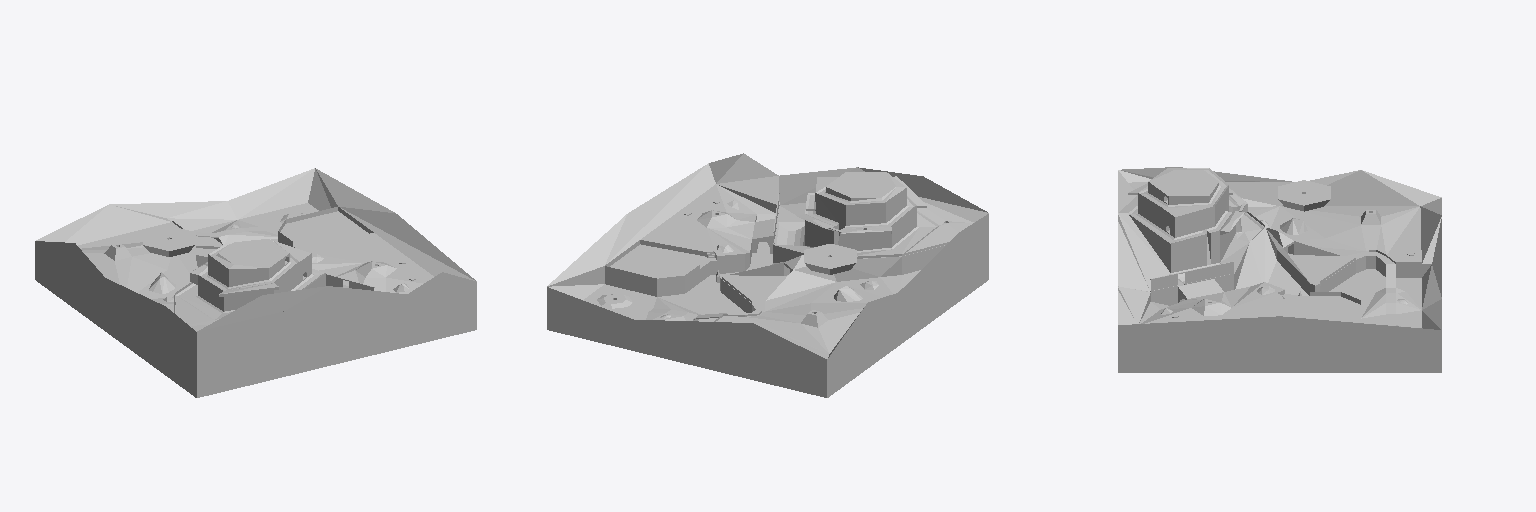
File: battlefield.obj
The picture shows the model from 3 angles: view 1: azimuth 30°, elevation 25°; view 2: azimuth 150°, elevation 25°; view 3: azimuth 270°, elevation 25°; orthographic projection.
Parts seen in each view (by area): view 1: Shape_IndexedFaceSet.009; view 2: Shape_IndexedFaceSet.009; view 3: Shape_IndexedFaceSet.009.
Boxes of the visible parts, <box> form: Shape_IndexedFaceSet.009: <box>35,168,476,397</box>; Shape_IndexedFaceSet.009: <box>547,153,988,397</box>; Shape_IndexedFaceSet.009: <box>1118,167,1441,372</box>.
Bounding box in the file's own units: 16.39 × 5.44 × 16.38.